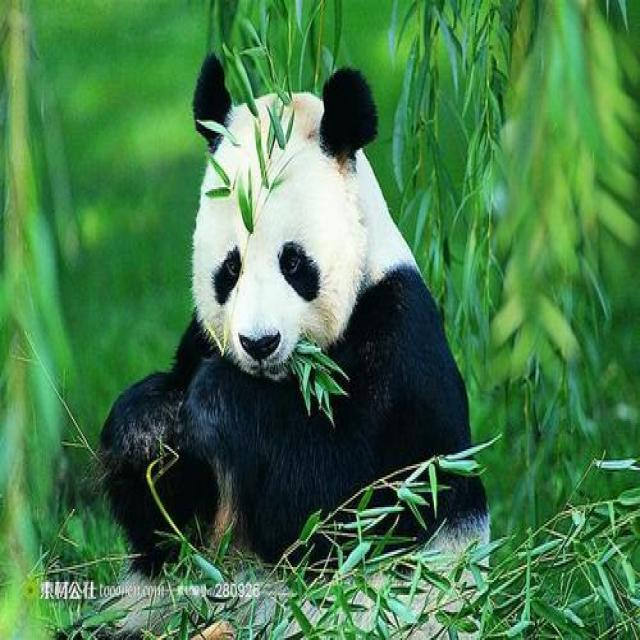panda: (99, 45, 495, 640)
